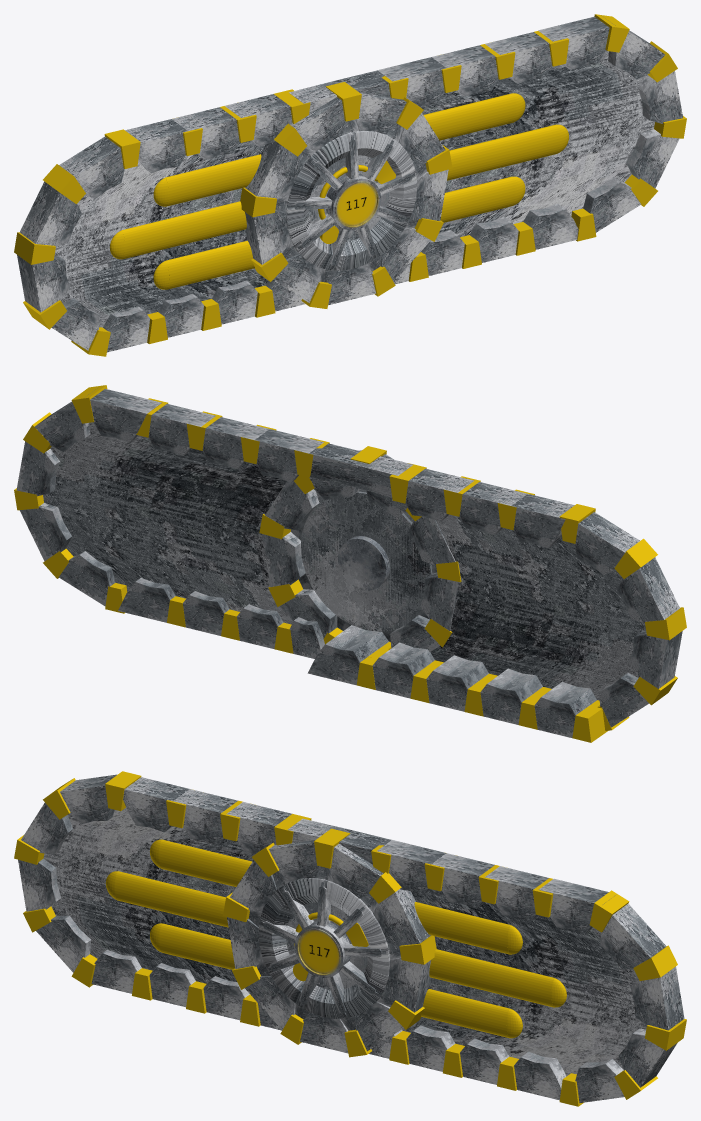
File: vdoor.fbx
The picture shows the model from 3 angles, top to bottom: view 1: azimuth 30°, elevation 25°; view 2: azimuth 150°, elevation 25°; view 3: azimuth 330°, elevation 25°; orthographic projection.
Visible parts, largest first — view 1: Cubo.095, Cubo.096, Cilindro.001, Cilindro.004, Cilindro.007, Cilindro.005, Cilindro.008, Cubo.047, Cilindro.006, Cubo.048, Cilindro, Cilindro.009 (+51 smaller); view 2: Cubo.095, Cubo.096, Cilindro.001, Cubo.094, Cubo.019, Cubo.047, Cubo.048, Cubo.064, Cubo.062, Cilindro, Cubo.039, Cubo.040 (+34 smaller); view 3: Cubo.095, Cubo.096, Cilindro.001, Cilindro.007, Cilindro.004, Cilindro.008, Cubo.065, Cilindro.005, Cilindro.009, Cubo.069, Cilindro, Cilindro.006 (+50 smaller).
Part boxes in pixels (x1,y1,x2,y2): Cubo.095: (420, 50, 654, 237); Cubo.096: (54, 140, 267, 327); Cilindro.001: (286, 131, 417, 270); Cilindro.004: (122, 201, 246, 259); Cilindro.007: (447, 124, 559, 180); Cilindro.005: (165, 154, 261, 206); Cilindro.008: (423, 93, 516, 140); Cubo.047: (19, 181, 81, 246); Cilindro.006: (166, 240, 254, 289); Cubo.048: (59, 136, 124, 199); Cilindro: (325, 173, 380, 230); Cilindro.009: (440, 176, 515, 222); Cubo.095: (43, 422, 293, 624); Cubo.096: (430, 514, 645, 700); Cilindro.001: (301, 491, 432, 631); Cubo.094: (309, 443, 413, 497); Cubo.019: (307, 625, 388, 685); Cubo.047: (617, 557, 679, 623); Cubo.048: (574, 512, 639, 574); Cubo.064: (87, 388, 161, 442); Cubo.062: (511, 494, 574, 548); Cilindro: (338, 536, 389, 590); Cubo.039: (480, 668, 542, 724); Cubo.040: (534, 681, 596, 737); Cubo.095: (402, 889, 646, 1076); Cubo.096: (43, 807, 256, 983); Cilindro.001: (258, 878, 389, 1018); Cilindro.007: (429, 949, 554, 1007); Cilindro.004: (115, 871, 228, 927); Cilindro.008: (414, 902, 510, 954); Cubo.065: (600, 903, 666, 969); Cilindro.005: (159, 839, 251, 886); Cilindro.009: (421, 989, 509, 1037); Cubo.069: (630, 966, 684, 1030); Cilindro: (295, 921, 350, 977); Cilindro.006: (160, 923, 234, 969).
Bounding box in the file's own units: 2067 × 630 × 235.
Materials: 7 (5 with a texture image).
